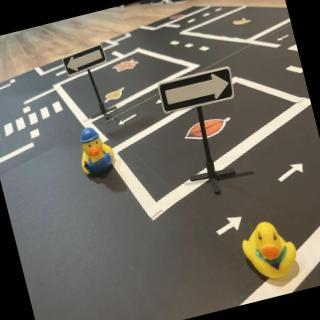duck_regular: (235, 214, 304, 289)
duck_specialty: (72, 119, 123, 183)
road_crosswalk: (1, 96, 70, 148)
road_oneway: (212, 211, 247, 241), (274, 160, 309, 189), (117, 112, 140, 128), (276, 32, 294, 45)
sign_oneway_left: (62, 43, 110, 77)
sign_oneway_right: (156, 66, 238, 116)
